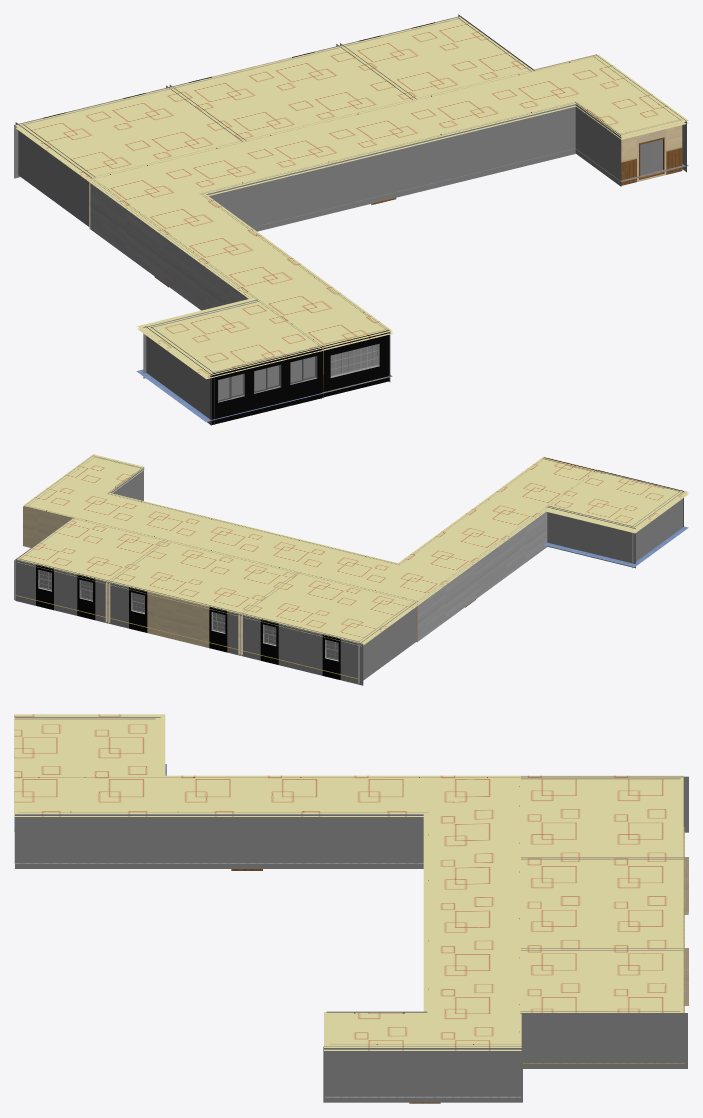
The model's file is planimetria ufficio giornalistico.FBX.
3 views of the same model, one above another, from view 1: azimuth 30°, elevation 25°; view 2: azimuth 150°, elevation 25°; view 3: azimuth 270°, elevation 25° (orthographic). The views are drawn at different scales.
Parts seen in each view (by area): view 1: soffitto001, Planimetria, soffitto, pavimento, finestra ufficio012; view 2: soffitto001, Planimetria, soffitto, pavimento; view 3: soffitto001, Planimetria, pavimento, soffitto.
Boxes of the visible parts, <box> form: soffitto001: <box>15,17,688,376</box>; Planimetria: <box>14,14,686,425</box>; soffitto: <box>16,105,688,379</box>; pavimento: <box>136,148,688,421</box>; finestra ufficio012: <box>330,344,378,376</box>; soffitto001: <box>17,454,688,644</box>; Planimetria: <box>14,454,683,685</box>; soffitto: <box>17,468,688,646</box>; pavimento: <box>15,526,688,678</box>; soffitto001: <box>14,714,683,1047</box>; Planimetria: <box>15,717,688,1103</box>; pavimento: <box>14,764,684,1097</box>; soffitto: <box>14,814,521,1050</box>.
Size of the model in its own units: 42.08 by 3.49 by 35.95.
